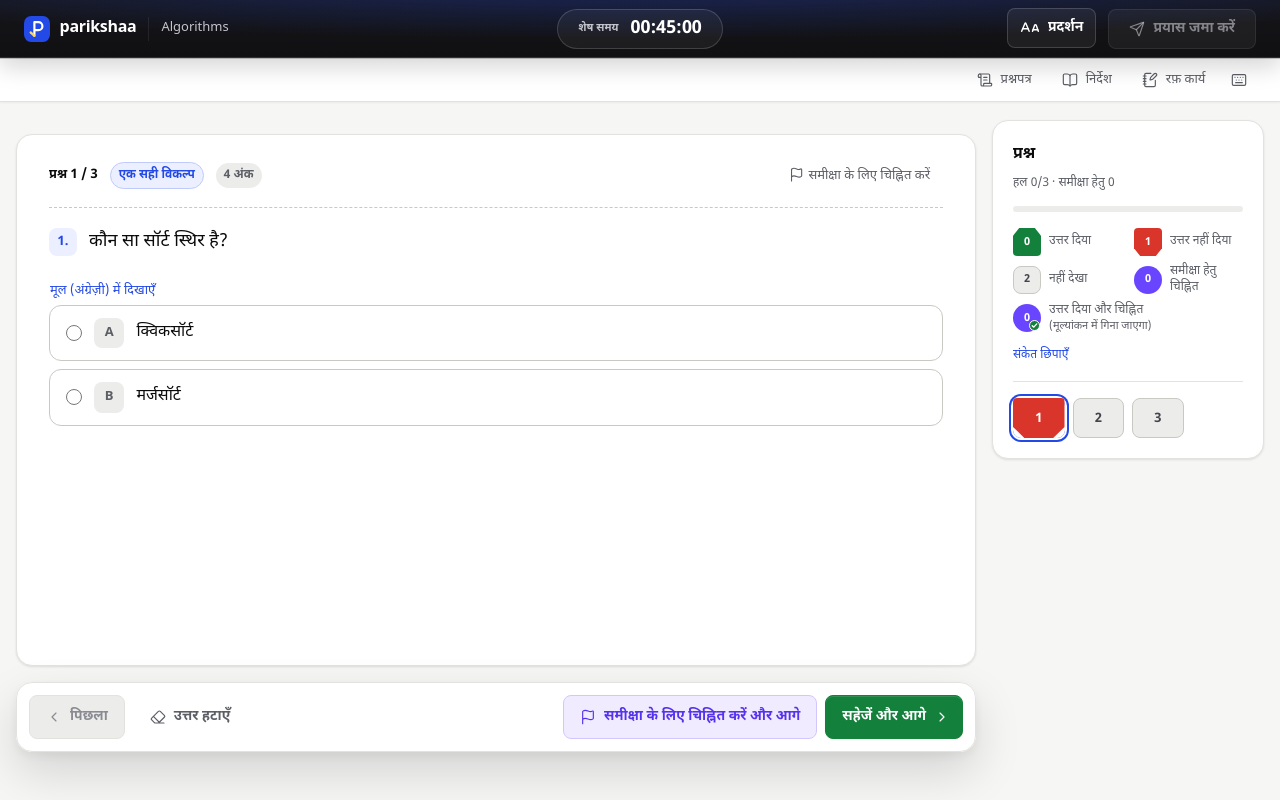
Scenario: the page in Hindi › lets a candidate read the original of a translated question
Click the button "मूल (अंग्रेज़ी) में दिखाएँ". click: (103, 290)
box: left=49, top=279, right=156, bottom=302
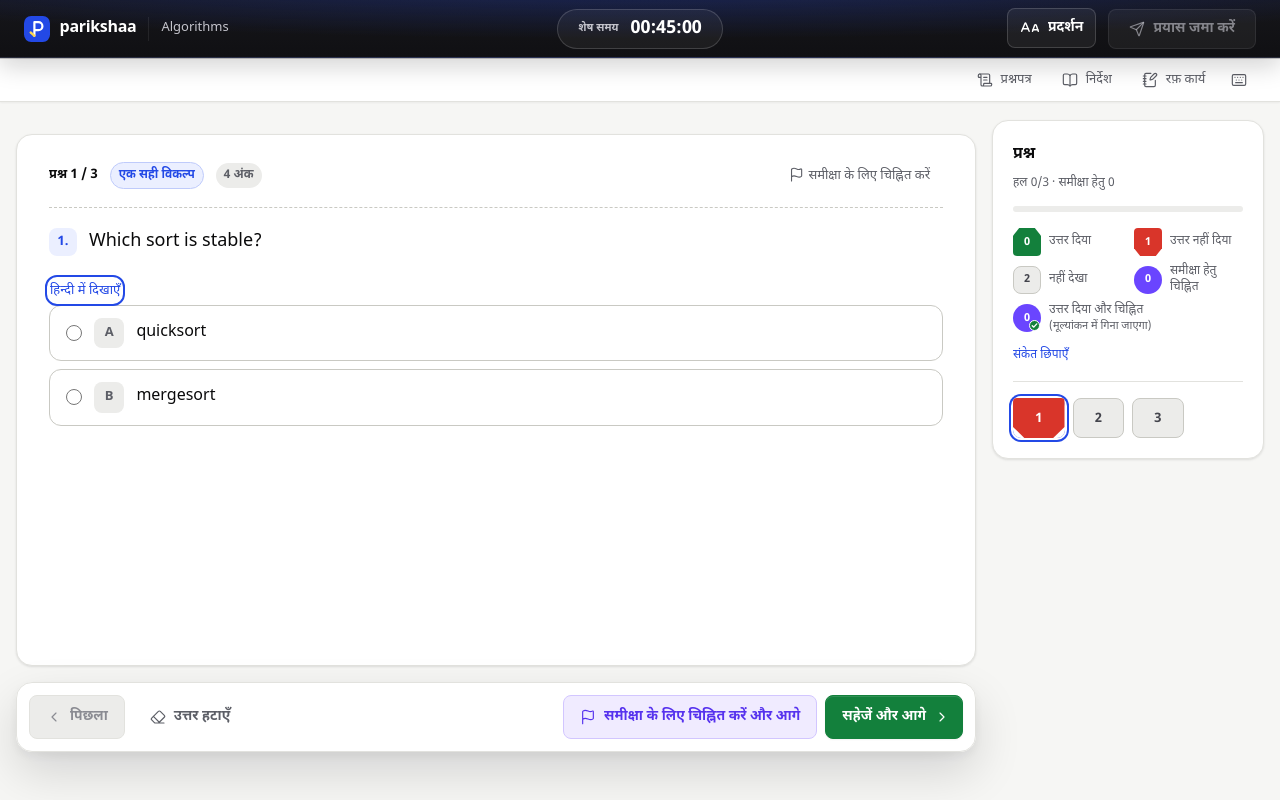
Expected: the heading "1. Which sort is stable?" is shown, left=49, top=228, right=262, bottom=256
Expected: the button "हिन्दी में दिखाएँ" is shown, left=49, top=279, right=121, bottom=302
